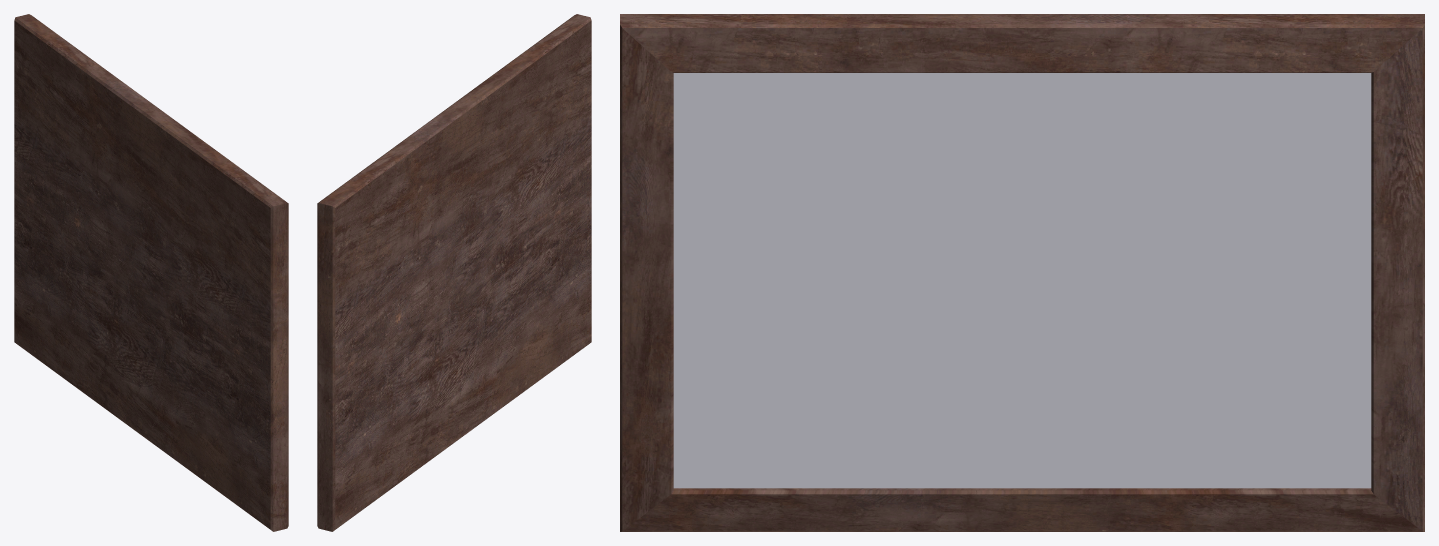
Rendered from picture2.gltf.
3 views of the same model, side by side, from view 1: azimuth 30°, elevation 25°; view 2: azimuth 150°, elevation 25°; view 3: azimuth 270°, elevation 25° (orthographic). The views are drawn at different scales.
Visible parts, largest first — view 1: SM_PictureFrame03; view 2: SM_PictureFrame03; view 3: SM_PictureFrame03.
Part boxes in pixels (x1,y1,x2,y2): SM_PictureFrame03: (14, 14, 288, 531); SM_PictureFrame03: (317, 14, 591, 531); SM_PictureFrame03: (620, 14, 1424, 531).
Bounding box in the file's own units: 0.0227 × 0.32 × 0.46.
3 materials, 3 textured.
